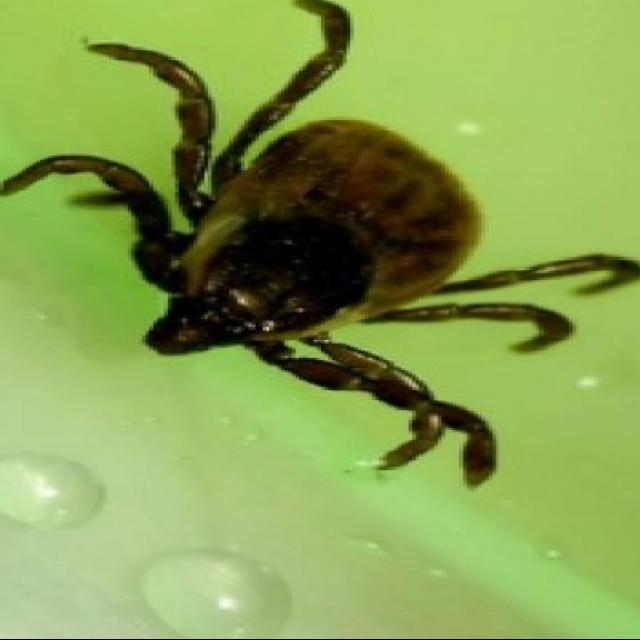Rhipicephalus Sanguineus-F: (0, 0, 640, 493)
